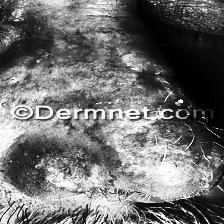Unclassified: (31, 148, 105, 192), (122, 52, 155, 88), (146, 152, 184, 174)
